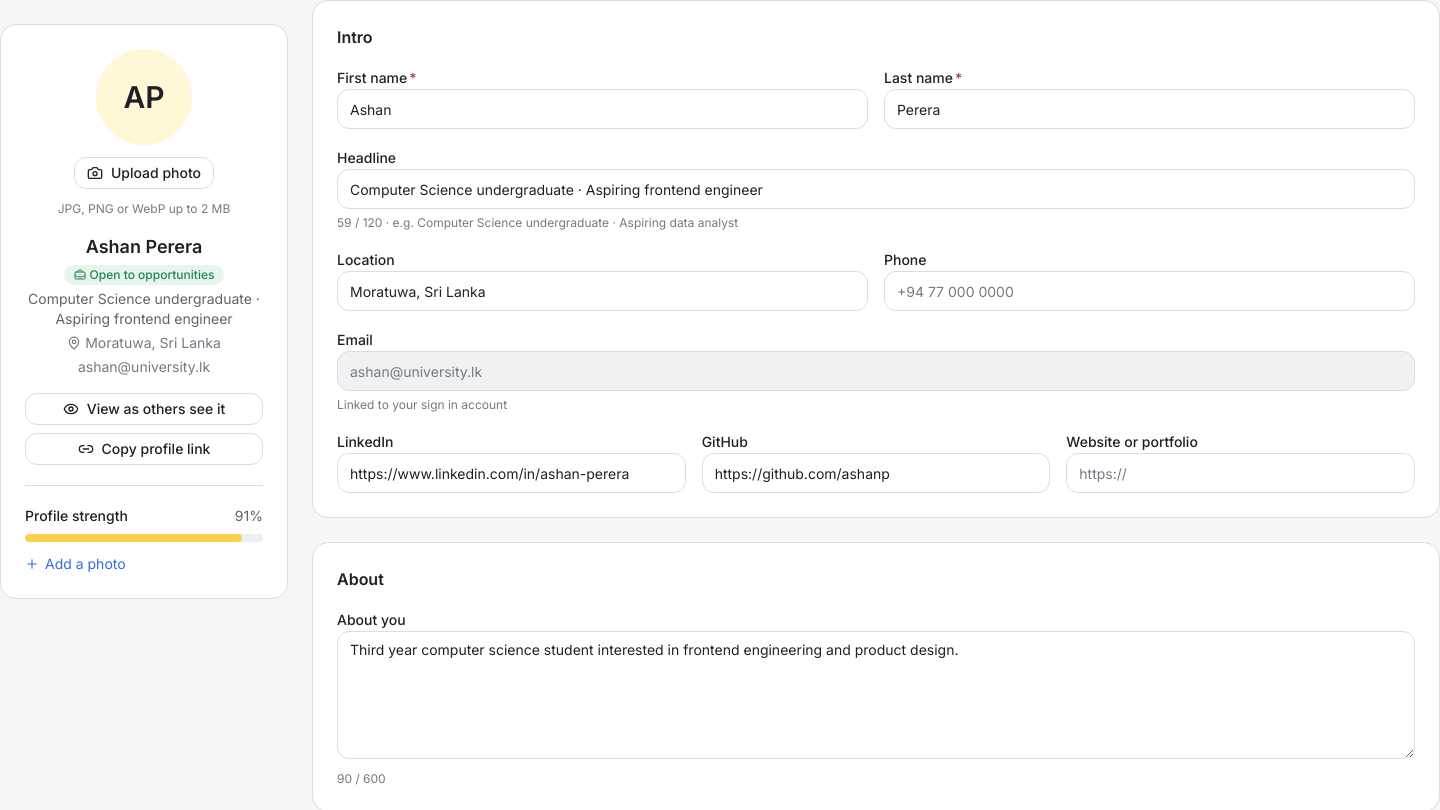
Test: StudentProfileForm › saves the edits and confirms only after the save resolves
Step 1. Type "+94 77 123 4567" into the field labelled "Phone" → (1150, 291), box x1=884 y1=271 x2=1415 y2=311
(page scrolled)
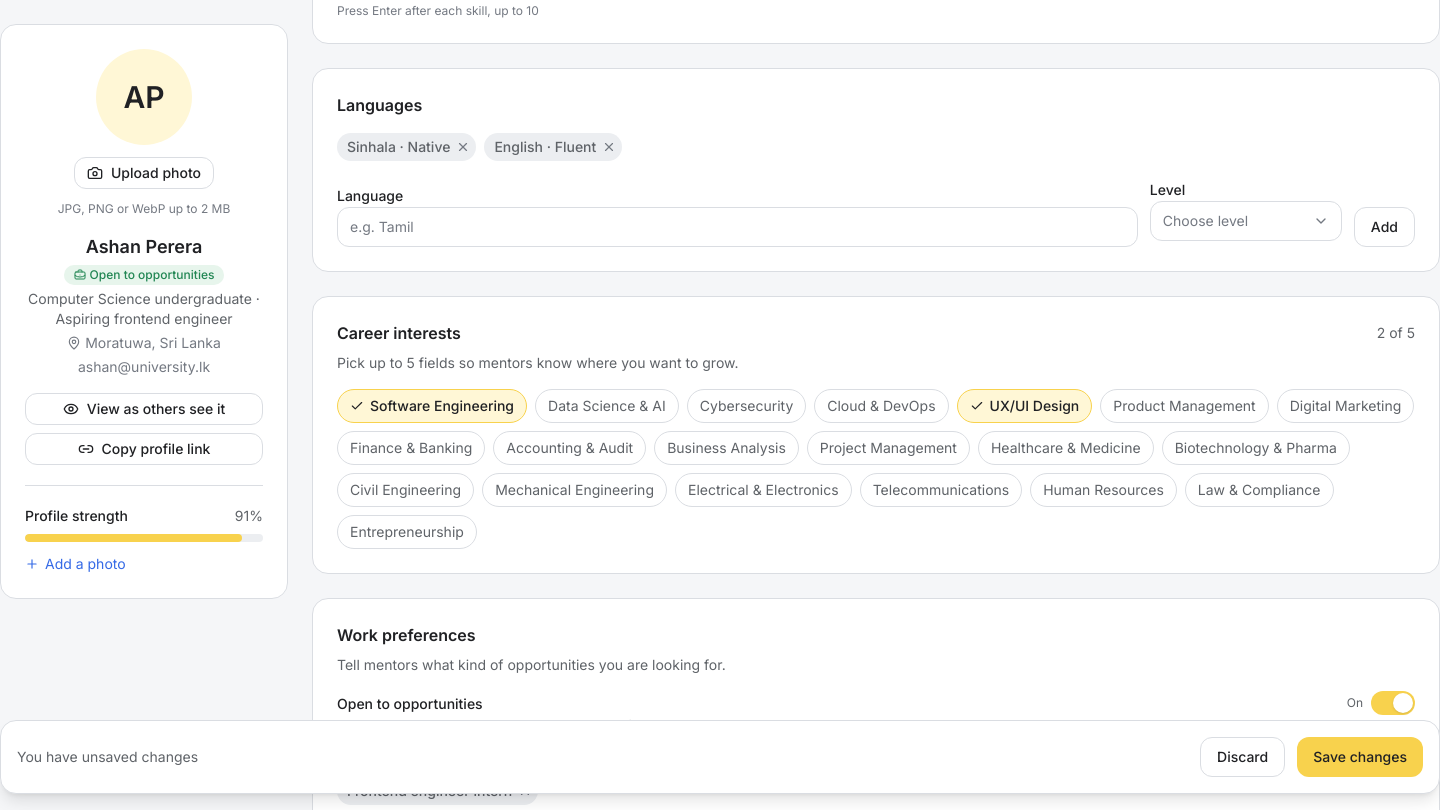
Step 2. Click the button "Data Science & AI" → (607, 406), box x1=535 y1=388 x2=679 y2=422
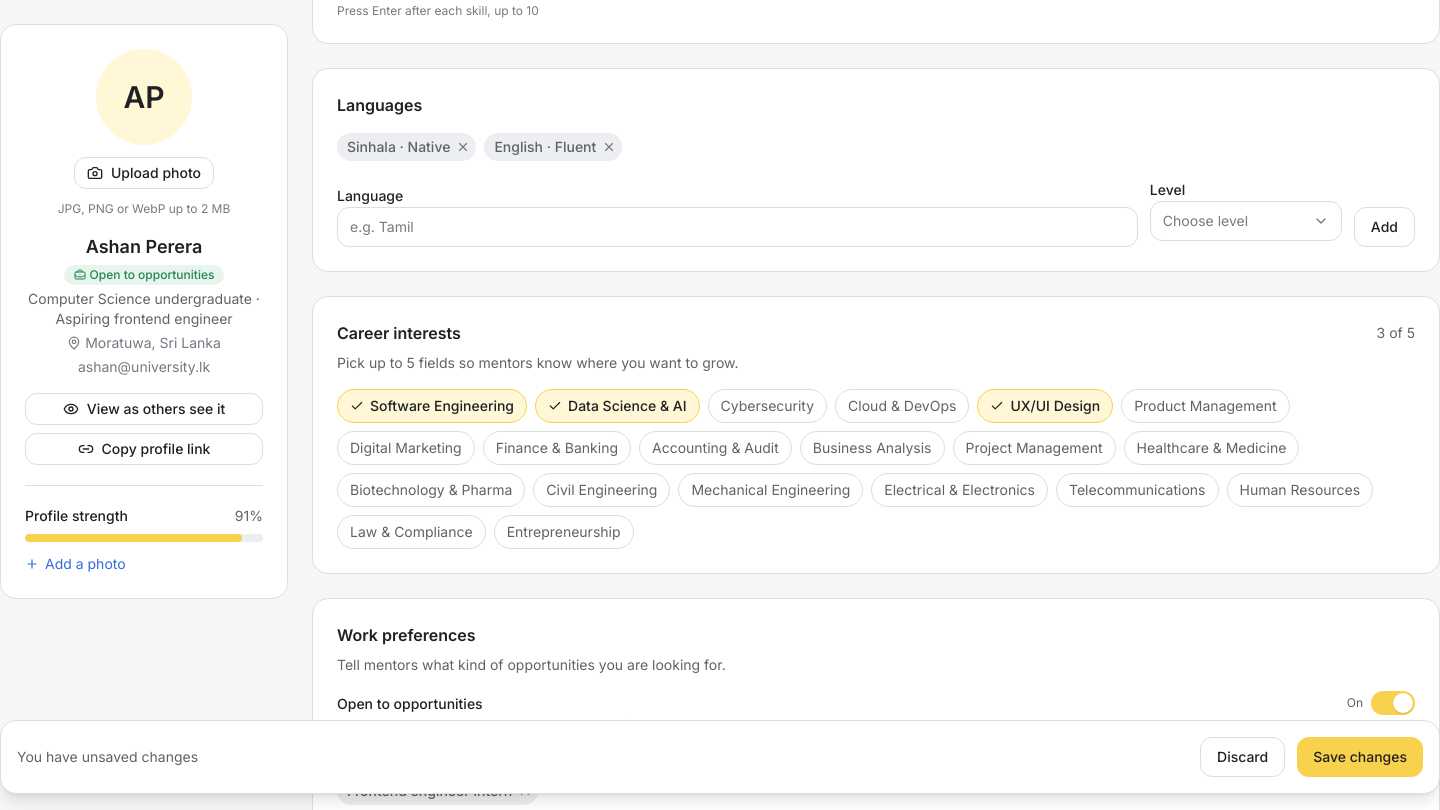
Step 3. Click the button "Save changes" → (1360, 757), box x1=1297 y1=737 x2=1423 y2=777
(page scrolled)
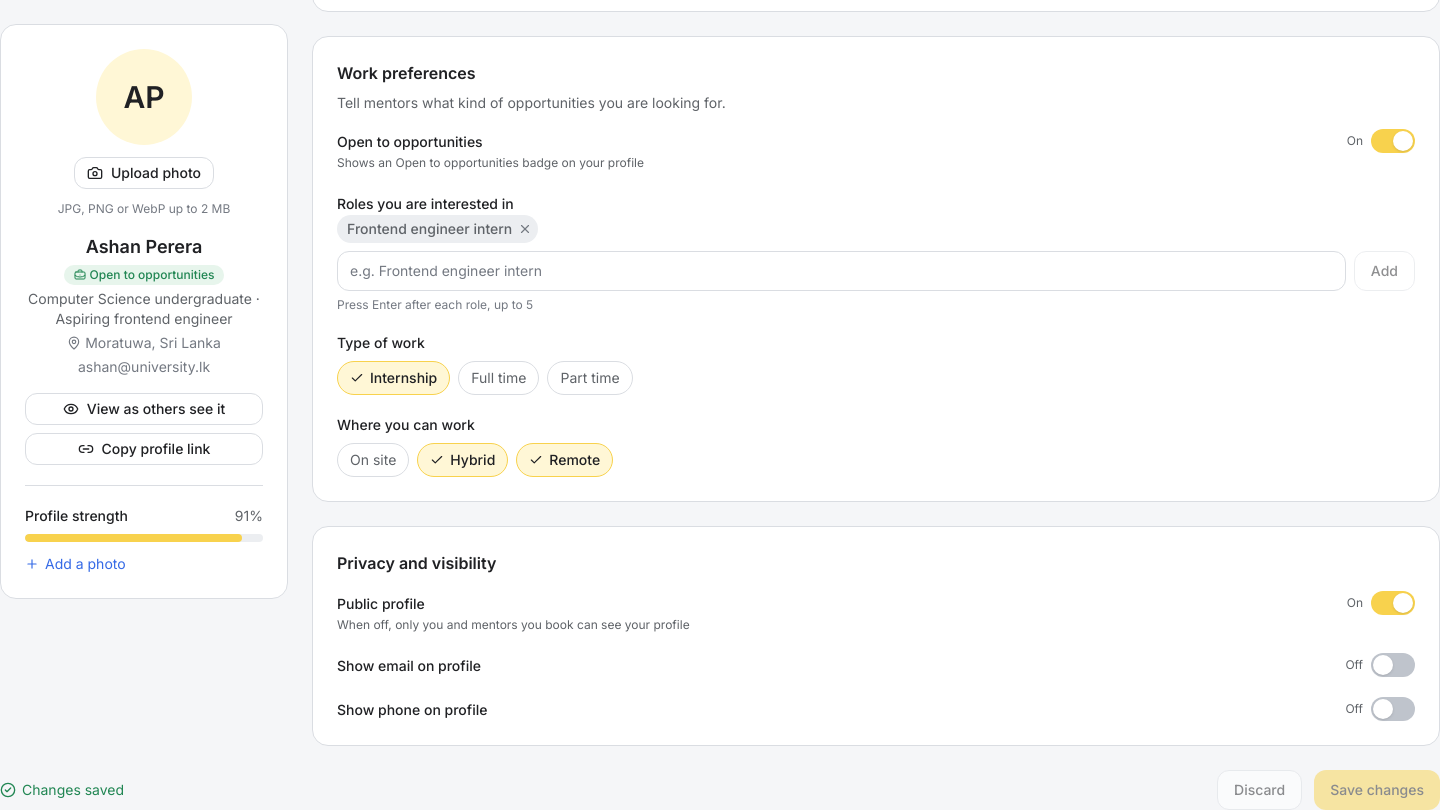
Expected: the text "Changes saved" is shown, x1=0 y1=780 x2=124 y2=800
Expected: the button "Save changes" is disabled, x1=1314 y1=770 x2=1439 y2=809
